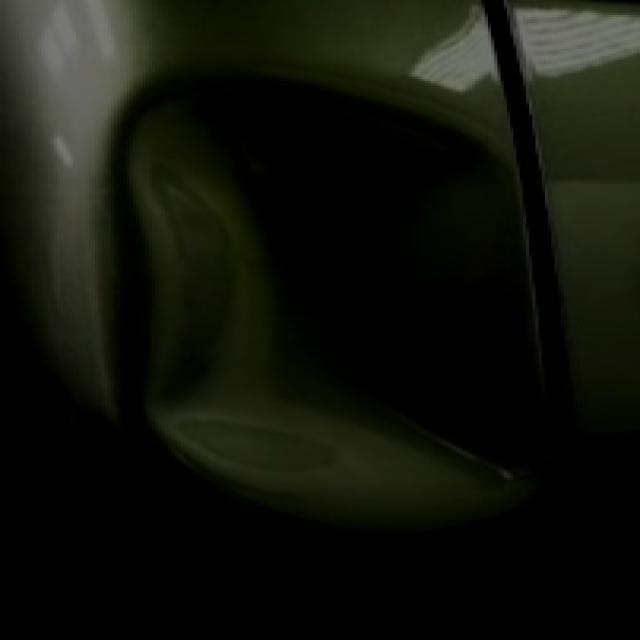dent: (109, 72, 546, 522)
